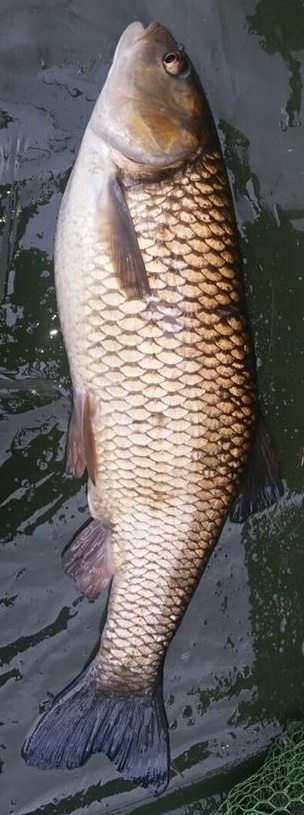Leuciscus cephalus: (20, 20, 284, 795)
